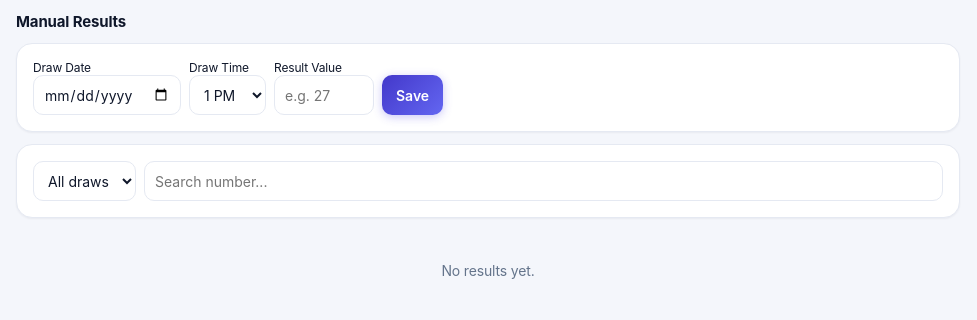
Test case: AdminResults page › shows a validation error when required fields are missing
The image size is (977, 320).
Expected: the text "No results yet." is shown, [442, 262, 535, 279]
Step 1. Click the button "Save" → (413, 95), box [382, 75, 443, 115]
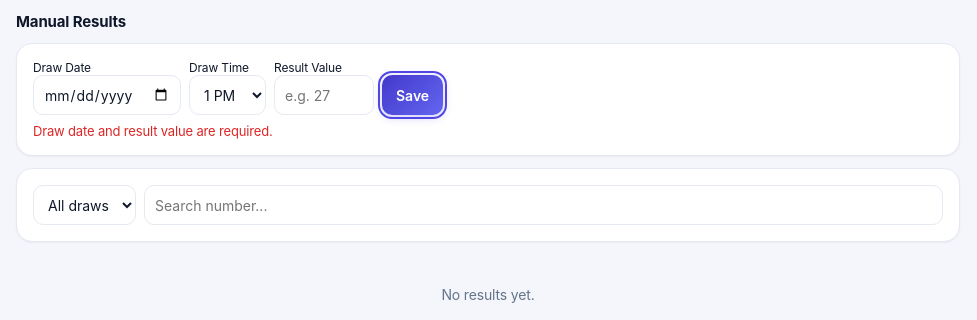
Expected: the text "Draw date and result value are required." is shown, [33, 123, 273, 139]
